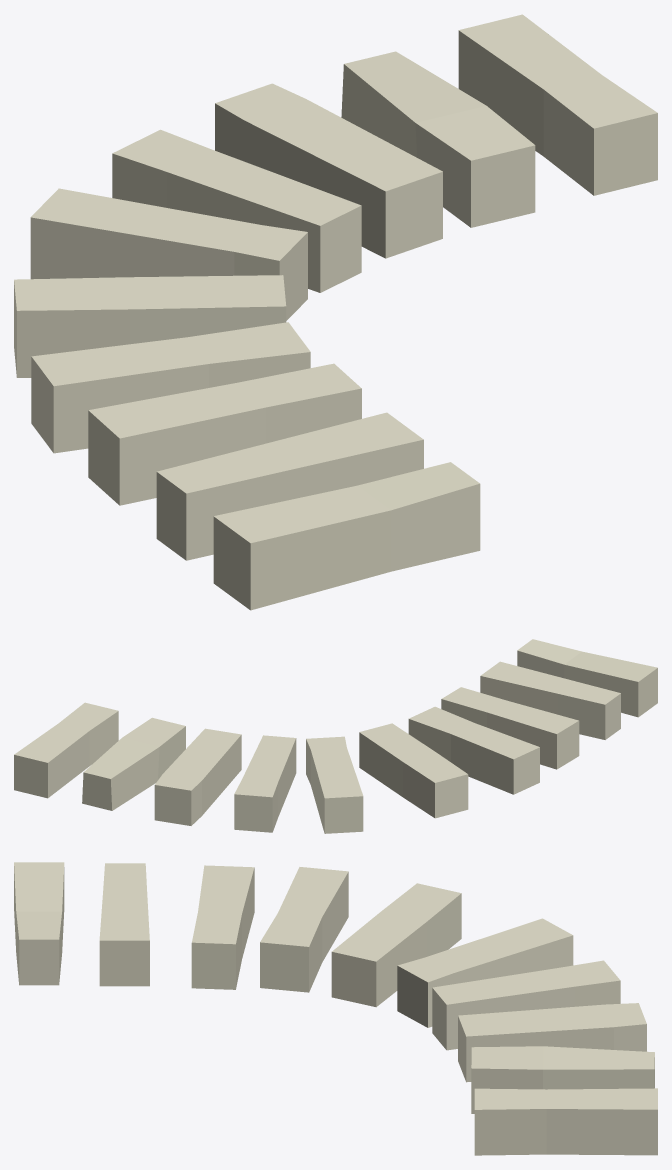
The model's file is resource__ground__stone-road__turning.fbx.
The picture shows the model from 3 angles, top to bottom: view 1: azimuth 30°, elevation 25°; view 2: azimuth 150°, elevation 25°; view 3: azimuth 270°, elevation 25°; orthographic projection. The views are drawn at different scales.
Parts seen in each view (by area): view 1: StoneRoad_Turning; view 2: StoneRoad_Turning; view 3: StoneRoad_Turning.
Boxes of the visible parts, bbox=[...] form: StoneRoad_Turning: bbox=[14, 14, 657, 610]; StoneRoad_Turning: bbox=[14, 639, 657, 833]; StoneRoad_Turning: bbox=[14, 862, 657, 1155].
Size of the model in its own units: 366 by 31.5 by 403.
